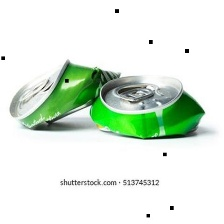can: (6, 55, 124, 132), (86, 73, 207, 144)
